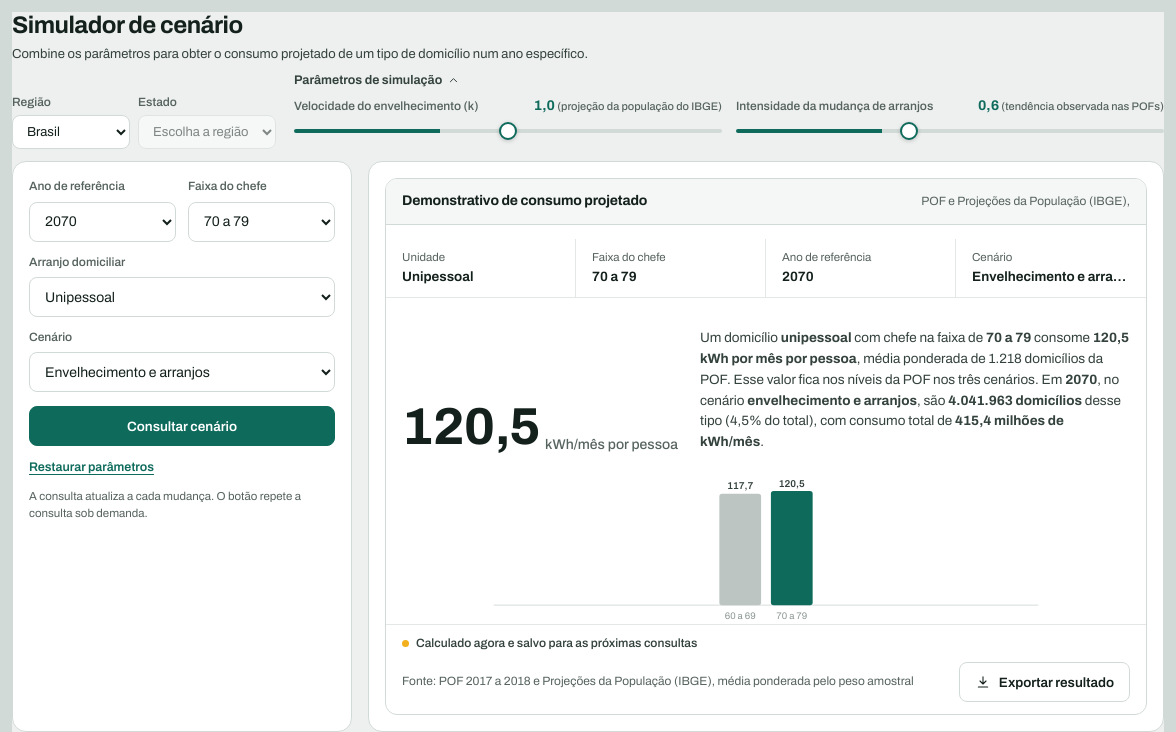
it: Simulador › indica quando o cenário foi calculado agora ou recuperado de cenário salvo (RF09)
The image size is (1176, 732).
Expected: the element with test id "chip-cenario" reads "Calculado agora e salvo para as próximas consultas", x1=416 y1=636 x2=697 y2=650
Click the button "Consultar cenário": (182, 426) x1=29 y1=406 x2=335 y2=446
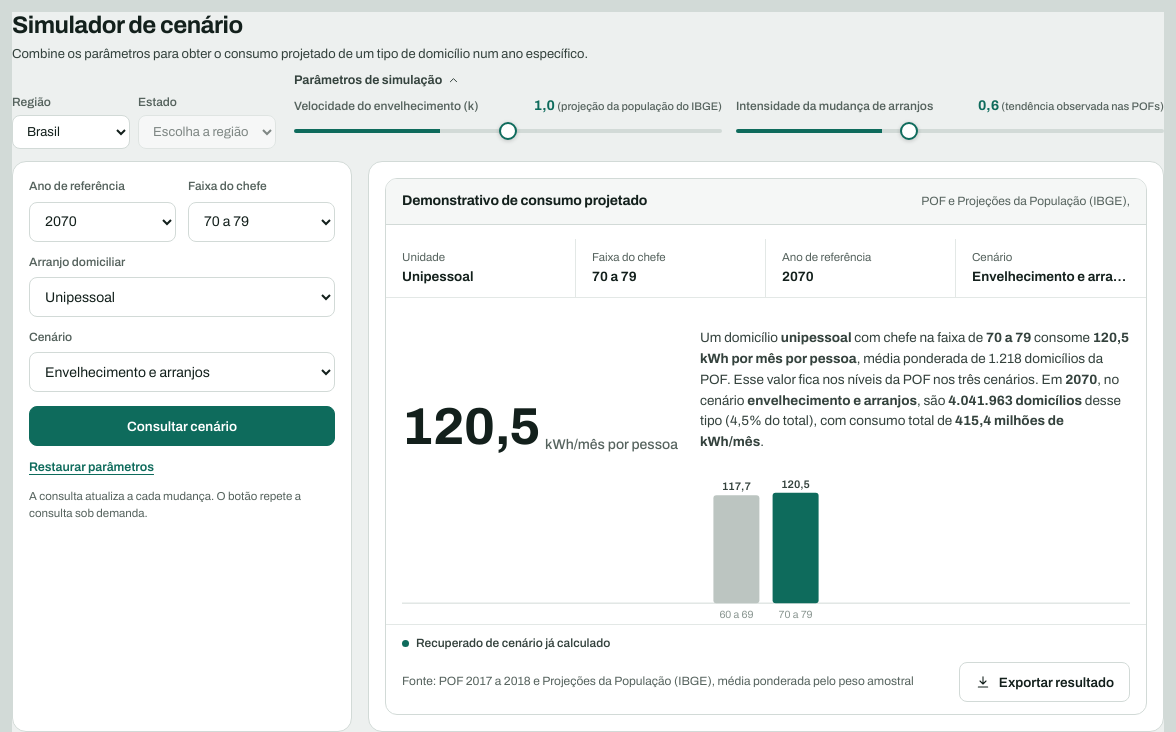
Expected: the element with test id "chip-cenario" reads "Recuperado de cenário já calculado", x1=416 y1=636 x2=610 y2=650
